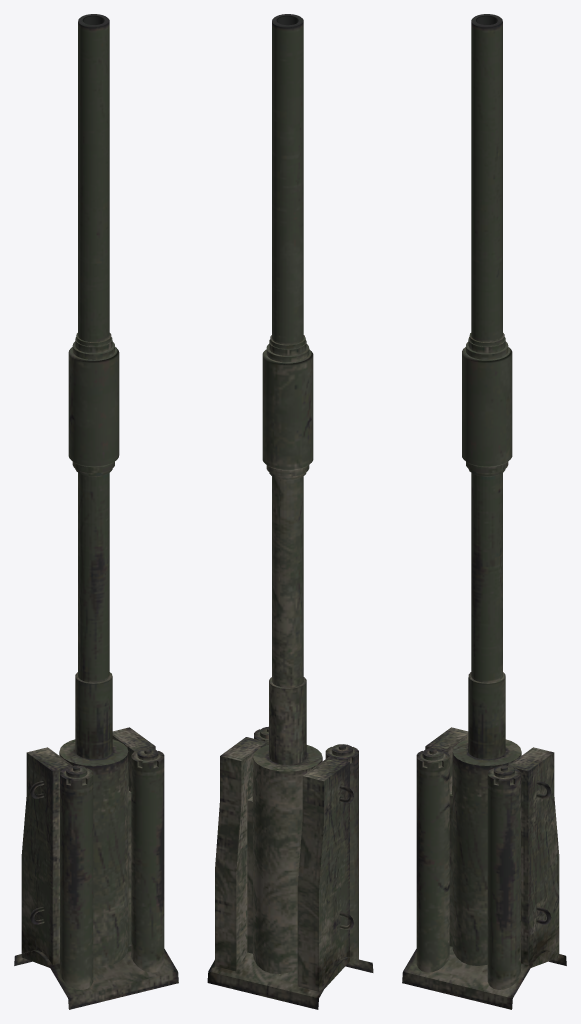
The model's file is Gun_02.glb.
3 views of the same model, side by side, from view 1: azimuth 30°, elevation 25°; view 2: azimuth 150°, elevation 25°; view 3: azimuth 330°, elevation 25° (orthographic).
Parts seen in each view (by area): view 1: set_0_group_0; view 2: set_0_group_0; view 3: set_0_group_0.
Part boxes in pixels (x1,y1,x2,y2): set_0_group_0: [14, 14, 178, 1009]; set_0_group_0: [207, 14, 373, 1009]; set_0_group_0: [402, 14, 566, 1009].
Size of the model in its own units: 0.6474 by 4.56 by 0.474.
Materials: 1 (1 with a texture image).
